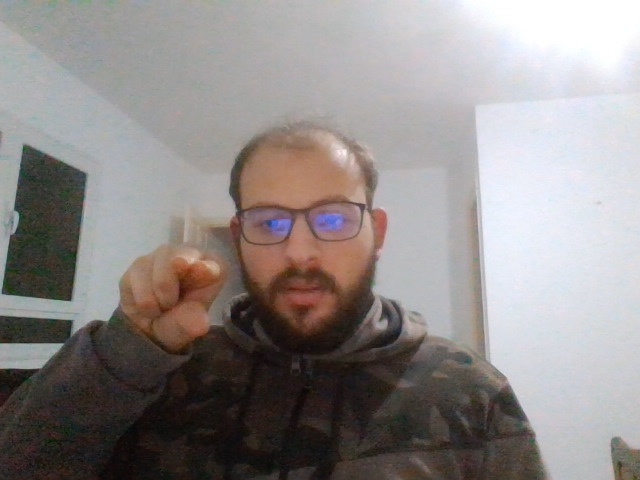No: (120, 244, 227, 346)
